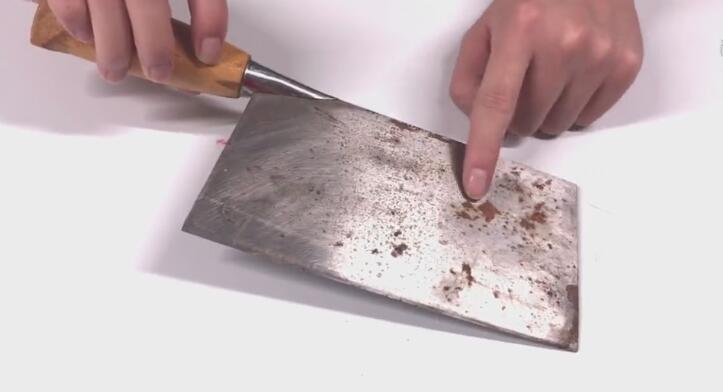knief: (37, 15, 633, 348)
